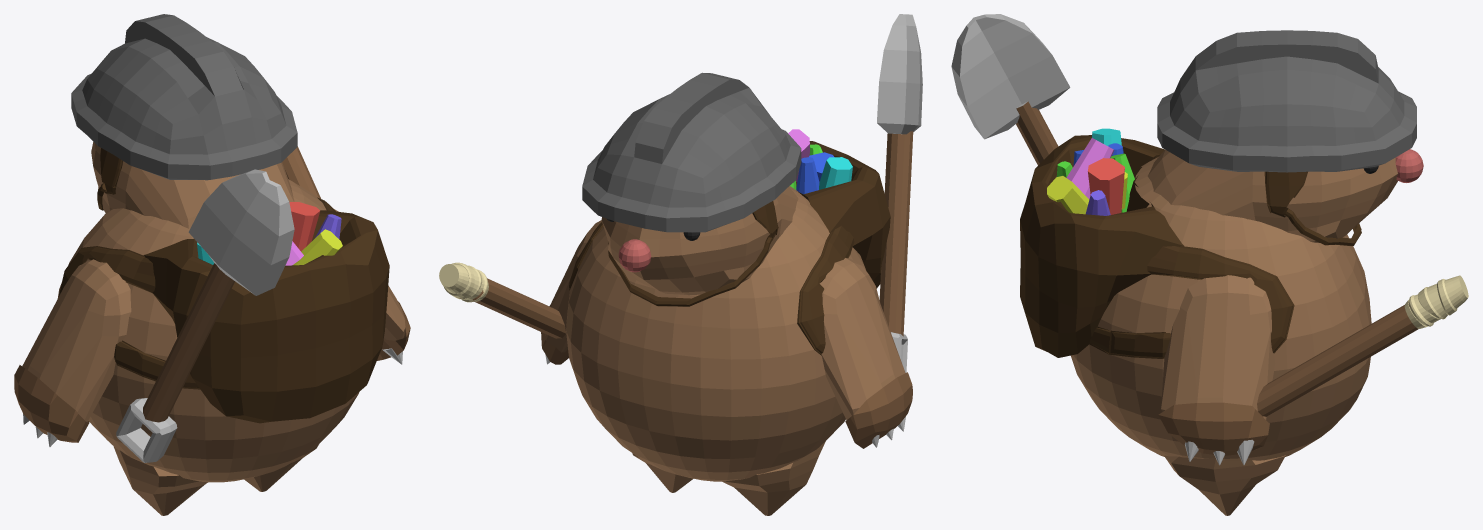
File: Digger_v2.fbx
3 renders of one model, left to right at view 1: azimuth 30°, elevation 25°; view 2: azimuth 150°, elevation 25°; view 3: azimuth 270°, elevation 25°, orthographic. The views are drawn at different scales.
Parts seen in each view (by area): view 1: Rucksack, Helm, Bauch, Cube.012, Linker arm, Kopf, Cube, Rucksack schleife, Beine, Linker arm.001, Cube.003, Schleife (+4 smaller); view 2: Bauch, Helm, Kopf, Linker arm, Rucksack, Cube.012, Cube, Beine, Rucksack schleife, Linker arm.001, Cylinder.001, Schleife (+5 smaller); view 3: Bauch, Helm, Rucksack, Rechter arm, Kopf, Cube.012, Rucksack schleife, Cylinder.001, Rechter arm.001, Beine, Schleife, Cylinder.003 (+5 smaller).
Boxes of the visible parts, x1,y1,x2,y2 form: Rucksack: (143, 210, 389, 423); Helm: (71, 14, 297, 180); Bauch: (57, 179, 359, 482); Cube.012: (116, 169, 294, 462); Linker arm: (22, 259, 131, 421); Kopf: (91, 142, 294, 228); Cube: (143, 263, 234, 422); Rucksack schleife: (58, 197, 335, 389); Beine: (113, 444, 318, 515); Linker arm.001: (14, 365, 89, 442); Cube.003: (289, 202, 319, 251); Schleife: (97, 148, 122, 210); Bauch: (566, 186, 866, 481); Helm: (582, 72, 801, 232); Kopf: (601, 187, 798, 295); Linker arm: (820, 258, 905, 420); Rucksack: (796, 141, 890, 288); Cube.012: (877, 14, 922, 372); Cube: (879, 131, 913, 336); Beine: (632, 441, 825, 515); Rucksack schleife: (569, 222, 854, 355); Linker arm.001: (845, 372, 912, 448); Cylinder.001: (460, 278, 565, 338); Schleife: (608, 201, 778, 306); Bauch: (1071, 157, 1371, 460); Helm: (1157, 30, 1416, 172); Rucksack: (1020, 135, 1183, 357); Rechter arm: (1161, 275, 1275, 419); Kopf: (1147, 149, 1397, 242); Cube.012: (951, 14, 1070, 139); Rucksack schleife: (1089, 246, 1294, 358); Cylinder.001: (1257, 301, 1418, 416); Rechter arm.001: (1158, 402, 1269, 455); Beine: (1164, 455, 1285, 515); Schleife: (1264, 171, 1361, 245); Cylinder.003: (1404, 275, 1468, 328).
Bounding box in the file's own units: 384 × 449 × 465.
